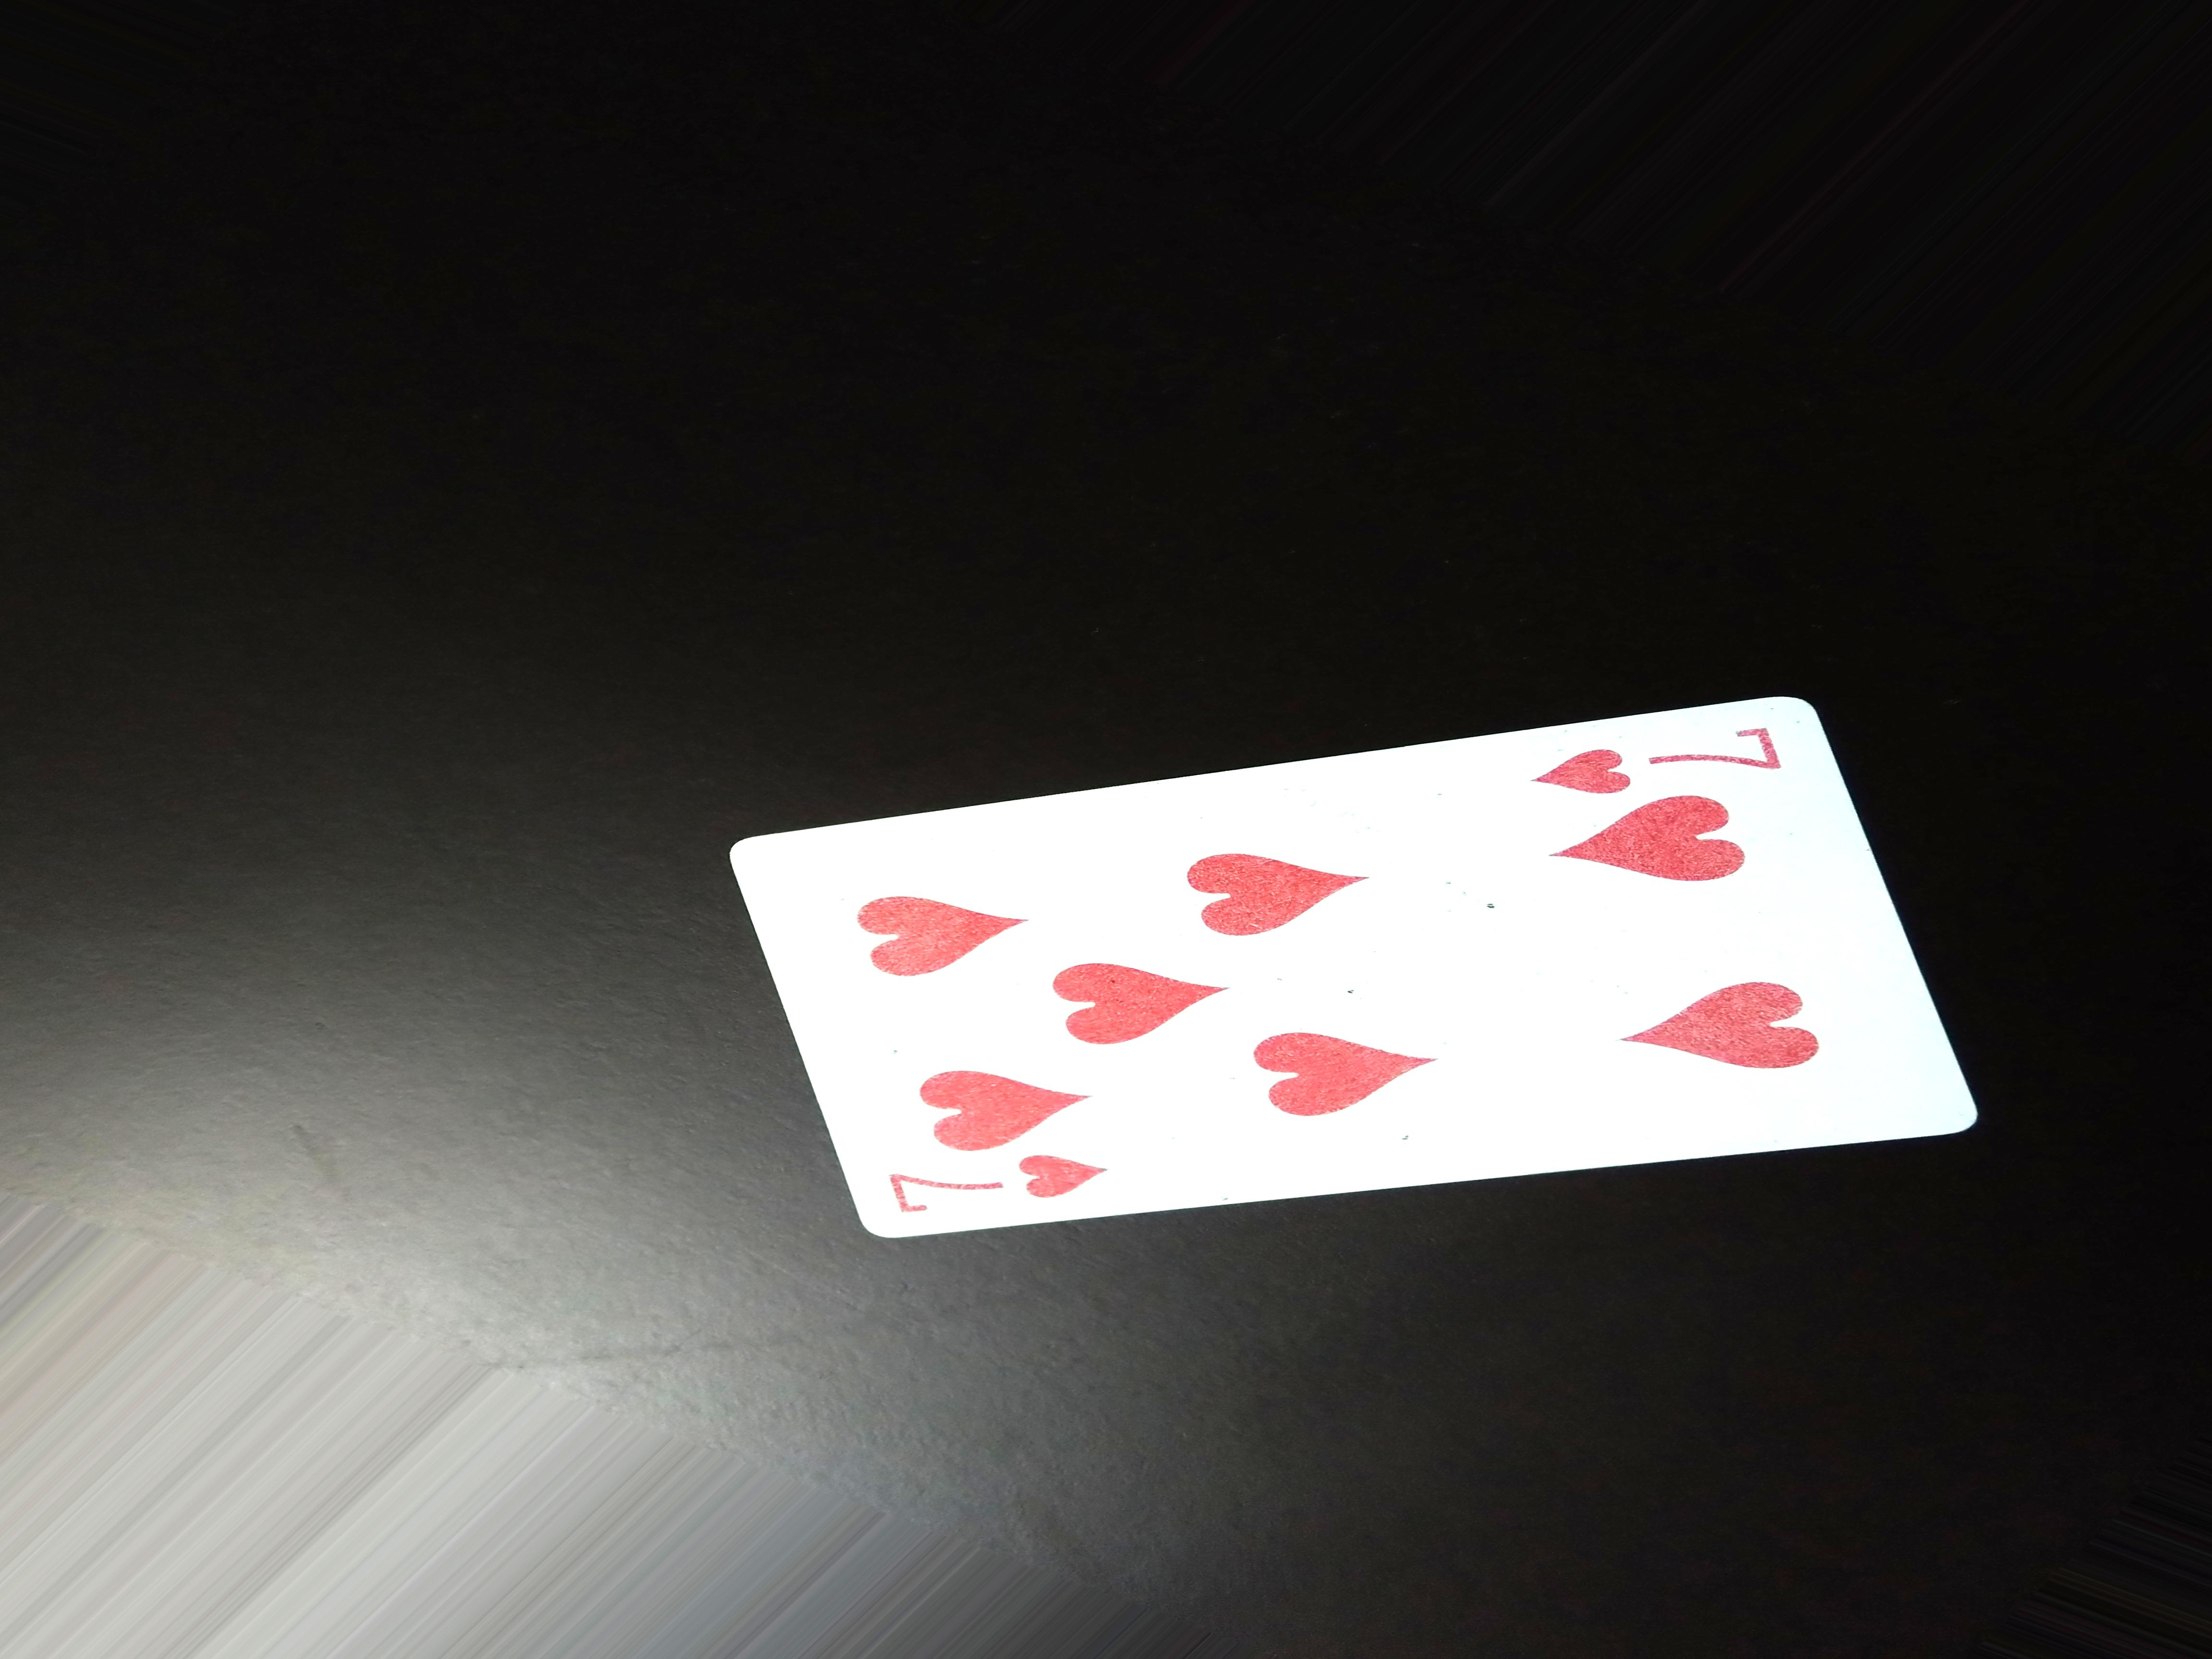7H: (1519, 694, 1824, 810)
